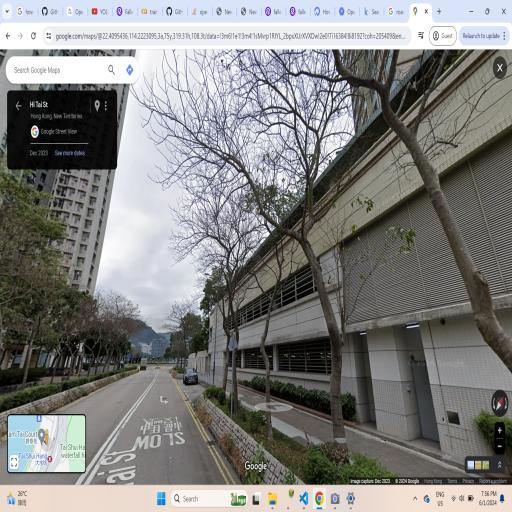Roads: (87, 372, 237, 486)
Trees: (12, 194, 49, 391), (39, 263, 72, 378), (72, 291, 99, 372), (98, 313, 122, 369)
